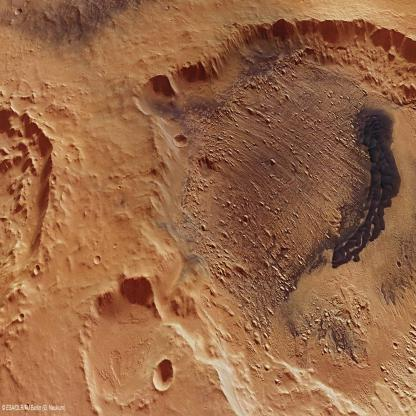craters: (139, 44, 416, 311), (74, 265, 229, 416), (144, 356, 179, 399), (26, 259, 48, 285), (89, 250, 112, 272)
